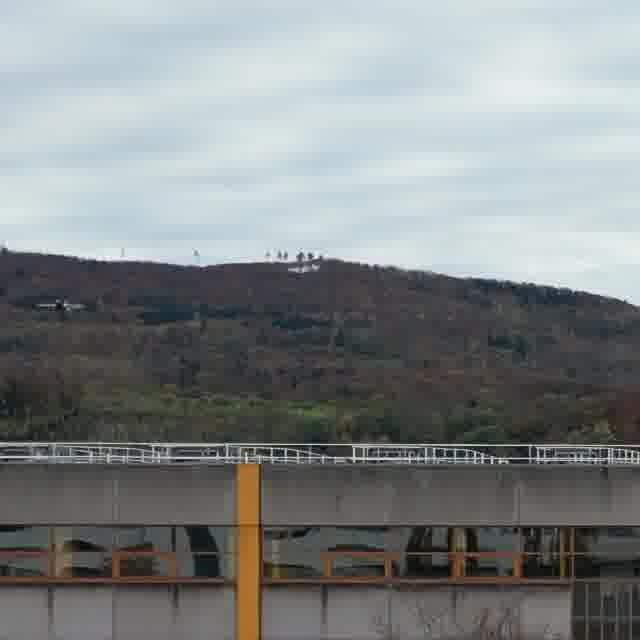Drohne: (37, 299, 85, 311)
